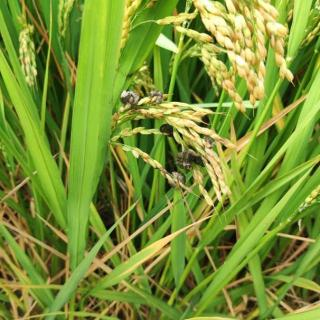Gosong-Palsu: (174, 148, 210, 170), (118, 89, 140, 110), (146, 88, 166, 107), (167, 170, 187, 189), (159, 121, 175, 137)
